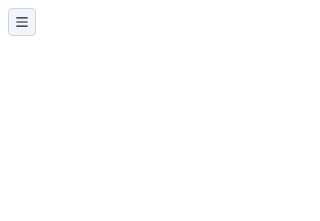
Phase 8 UI: Fonts and Typography (Google-Docs-Style) › Task 8.11: SpacingPopover (Line, character, and paragraph spacing) › sets line spacing presets and adjusts character spacing
Later steps or results of the test are not shown.
Click the button with test id "btn-spacing-popover" at (22, 22), box [8,8,36,36]
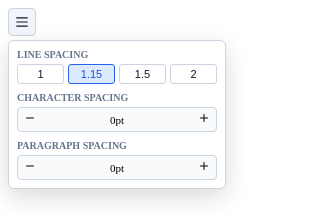
Check: the element with test id "spacing-dropdown" is shown, box [8,40,226,189]
Check: the button with test id "btn-linespacing-1.5" is shown
Click the button with test id "btn-linespacing-1.5" at (142, 74), box [119,64,166,84]
Check: the button with test id "btn-charspacing-plus" is shown, box [196,110,212,129]
